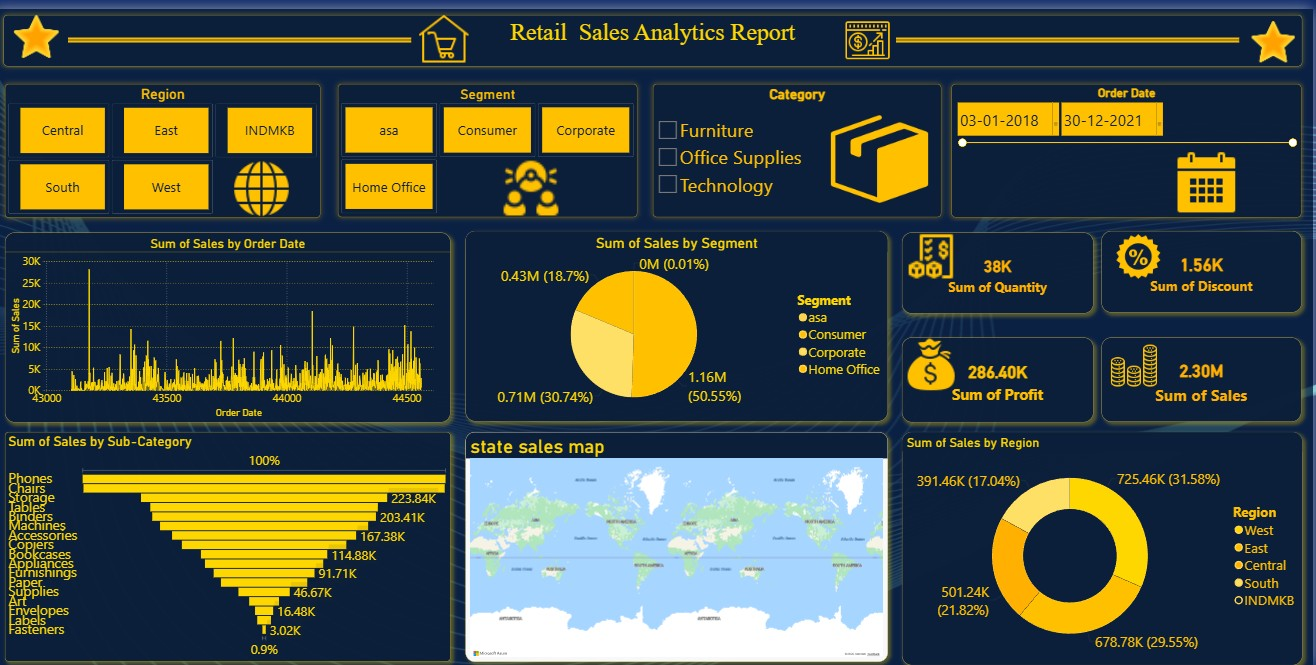

The dashboard page shown, as its layout file describes it:
{"tool":"powerbi","page":{"name":"Page 1","canvas":[4000,1985],"ordinal":0},"visuals":[{"type":"donutChart","fields":{"Category":["Orders (2).Region"],"Y":["Sum(Orders (2).Sales)"]},"box":[2753.3,1280,1213.3,706.7],"z":0},{"type":"funnel","fields":{"Category":["Orders (2).Sub-Category"],"Y":["Sum(Orders (2).Sales)"]},"box":[35,1280,1350,695],"z":1000},{"type":"azureMap","title":"state sales map","fields":{"Values":["Orders (2).State"]},"box":[1433.3,1283.3,1280,696.7],"z":2000},{"type":"pieChart","fields":{"Category":["Orders (2).Segment"],"Y":["Sum(Orders (2).Sales)"]},"box":[1433.3,673.3,1280,576.7],"z":3000},{"type":"lineChart","fields":{"Category":["Orders (2).Order Date"],"Y":["Sum(Orders (2).Sales)"]},"box":[35,675,1350,575],"z":4000},{"type":"card","fields":{"Values":["Sum(Orders (2).Sales)"]},"box":[3361.1,994.4,605.6,255.6],"z":5000},{"type":"card","fields":{"Values":["Sum(Orders (2).Profit)"]},"box":[2753.3,993.3,580,256.7],"z":6000},{"type":"card","fields":{"Values":["Sum(Orders (2).Discount)"]},"box":[3360,673.3,606.7,246.7],"z":7000},{"type":"card","fields":{"Values":["Sum(Orders (2).Quantity)"]},"box":[2755,675,580,245],"z":8000},{"type":"textbox","title":"Retail sales analytics report","box":[30,20,3935,155],"z":9000},{"type":"slicer","title":"Category","fields":{"Values":["Orders.Category"]},"box":[2000,226.7,873.3,403.3],"z":10000},{"type":"advancedSlicerVisual","fields":{"Values":["Orders.Region"]},"box":[35,225,955,405],"z":11000},{"type":"advancedSlicerVisual","fields":{"Values":["Orders.Segment"]},"box":[1046.7,226.7,906.7,403.3],"z":12000},{"type":"slicer","title":"Order Date","fields":{"Values":["Orders.Order Date"]},"box":[2905,225,1060,404],"z":13000},{"type":"image","box":[1106.7,20,523.3,156.7],"z":13001},{"type":"image","box":[2463.3,20,373.3,153.3],"z":13002},{"type":"image","box":[3583.3,426.7,190,203.3],"z":13003},{"type":"image","box":[2536.7,303.3,300,300],"z":13004},{"type":"image","box":[1500,453.3,260,176.7],"z":13005},{"type":"image","box":[670,453.3,290,180],"z":13006},{"type":"image","box":[3360,993.3,196.7,170],"z":13007},{"type":"image","box":[2756.7,993.3,176.7,170],"z":13008},{"type":"image","box":[2750,673.3,183.3,153.3],"z":13009},{"type":"image","box":[3360,676.7,223.3,150],"z":13010},{"type":"shape","box":[225,85,1040,15],"z":13011},{"type":"shape","box":[2735,85,1040,15],"z":13012},{"type":"image","box":[35,10,190,155],"z":13013},{"type":"image","box":[3760,25,240,150],"z":13014}]}

Visuals, with their boxes in screenshot pixels (x1, y1, x2, y2), scaled from the page's 4000x1985 canvas onto the 1316x665 screenshot:
donutChart - Orders (2).Region x Sum(Orders (2).Sales): 906:429:1305:664
funnel - Orders (2).Sub-Category x Sum(Orders (2).Sales): 12:429:456:662
"state sales map" azureMap: 472:430:893:663
pieChart - Orders (2).Segment x Sum(Orders (2).Sales): 472:226:893:419
lineChart - Orders (2).Order Date x Sum(Orders (2).Sales): 12:226:456:419
card - Sum(Orders (2).Sales): 1106:333:1305:419
card - Sum(Orders (2).Profit): 906:333:1097:419
card - Sum(Orders (2).Discount): 1105:226:1305:308
card - Sum(Orders (2).Quantity): 906:226:1097:308
"Retail sales analytics report" textbox: 10:7:1304:59
"Category" slicer: 658:76:945:211
advancedSlicerVisual - Orders.Region: 12:75:326:211
advancedSlicerVisual - Orders.Segment: 344:76:643:211
"Order Date" slicer: 956:75:1304:211
image: 364:7:536:59
image: 810:7:933:58
image: 1179:143:1241:211
image: 835:102:933:202
image: 494:152:579:211
image: 220:152:316:212
image: 1105:333:1170:390
image: 907:333:965:390
image: 905:226:965:277
image: 1105:227:1179:277
shape: 74:28:416:34
shape: 900:28:1242:34
image: 12:3:74:55
image: 1237:8:1315:59
